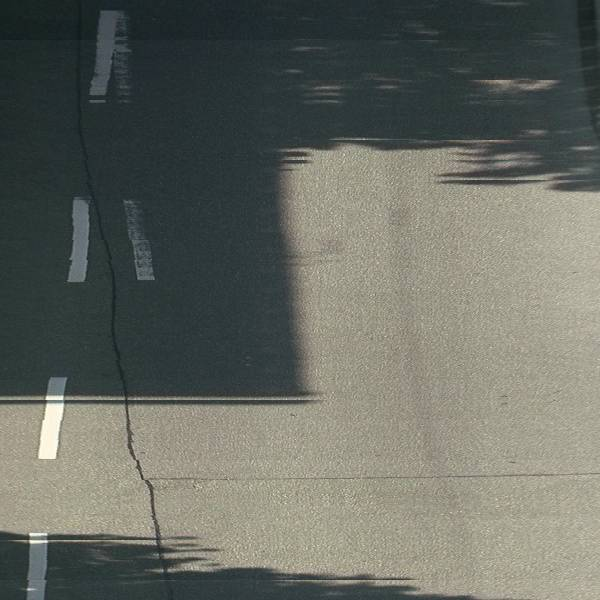road_damage: (161, 467, 600, 484)
